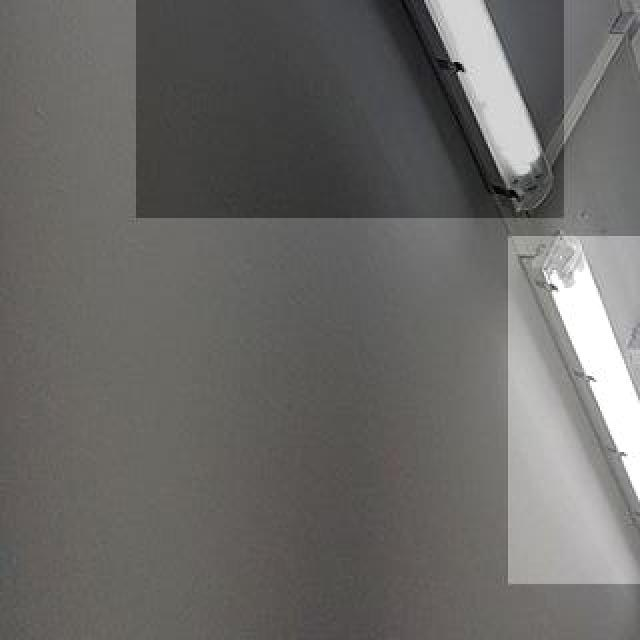fluorescent tube: (152, 0, 550, 212), (534, 230, 640, 582), (632, 568, 640, 638)
